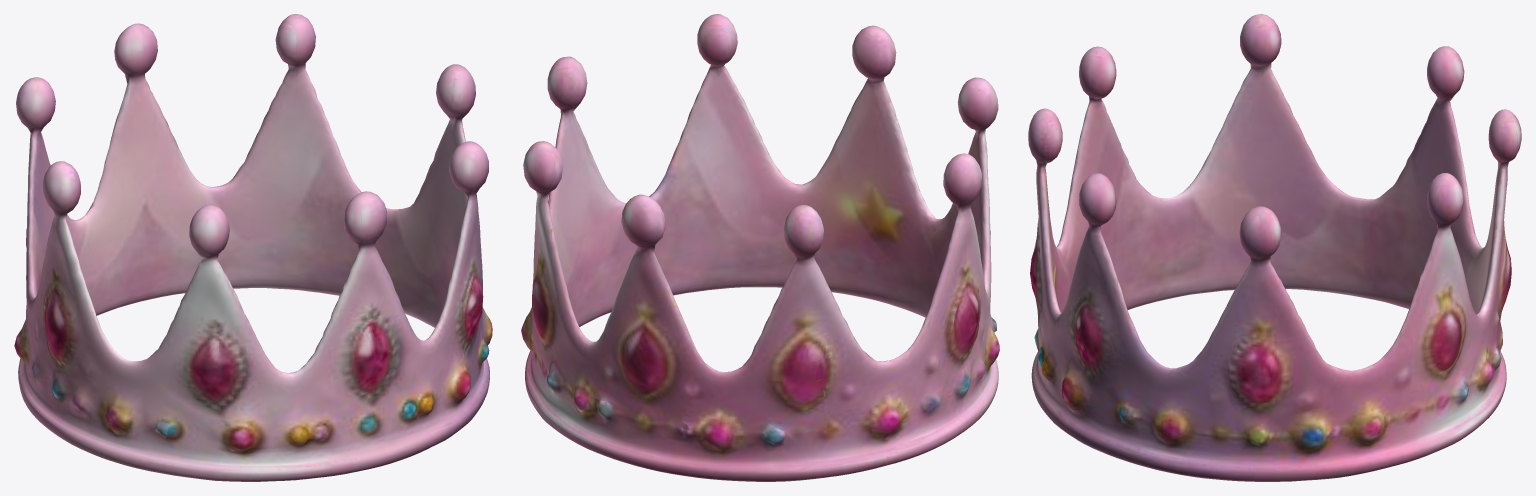
3 views of the same model, side by side, from view 1: azimuth 30°, elevation 25°; view 2: azimuth 150°, elevation 25°; view 3: azimuth 270°, elevation 25° (orthographic).
Bounding box in the file's own units: 2 × 1.22 × 2.
Materials: 1 (1 with a texture image).
